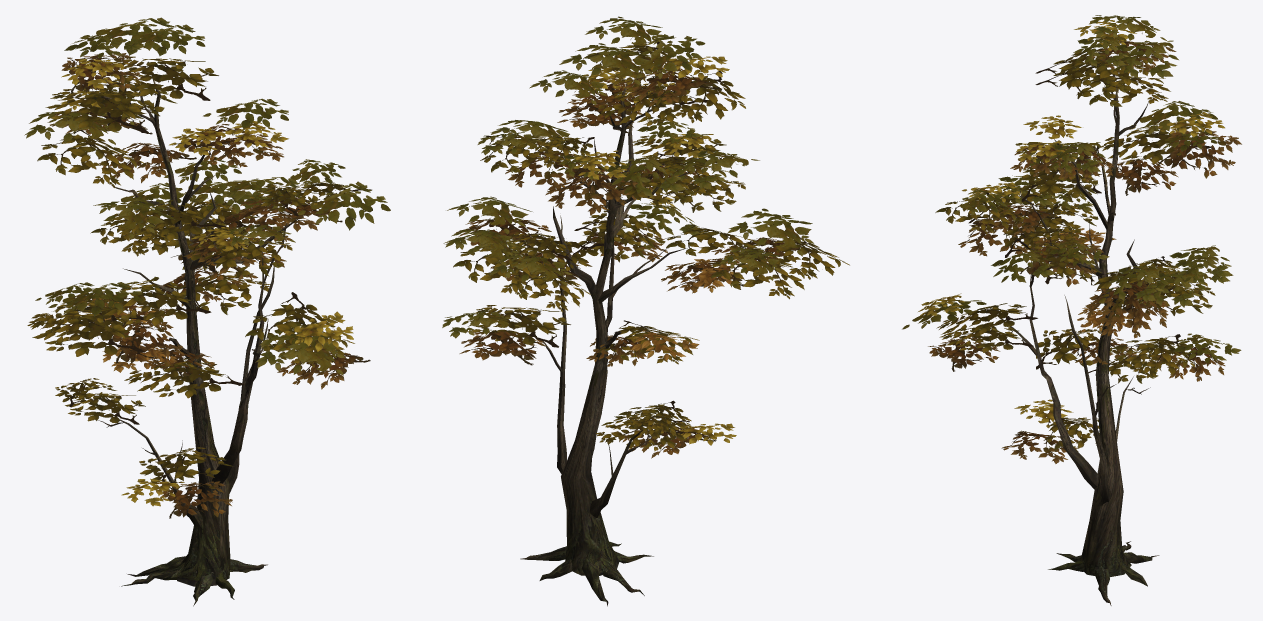
The model's file is 4005_Item_shu_5.FBX.
The picture shows the model from 3 angles, left to right: view 1: azimuth 30°, elevation 25°; view 2: azimuth 150°, elevation 25°; view 3: azimuth 270°, elevation 25°; orthographic projection. The views are drawn at different scales.
Visible parts, largest first — view 1: 4005_Item_shu_5; view 2: 4005_Item_shu_5; view 3: 4005_Item_shu_5.
Boxes of the visible parts, x1,y1,x2,y2 form: 4005_Item_shu_5: [24, 17, 390, 606]; 4005_Item_shu_5: [442, 16, 849, 606]; 4005_Item_shu_5: [902, 15, 1241, 605].
Bounding box in the file's own units: 181 × 266 × 165.
